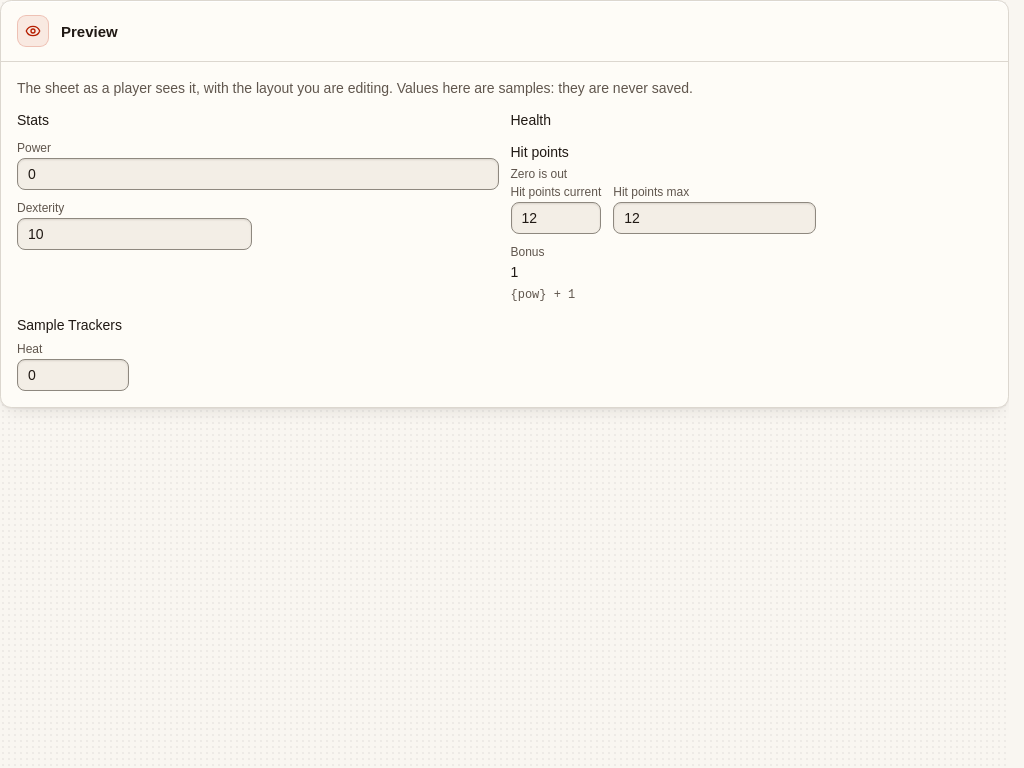
the sheet preview › computes a derived field from the sample values as they are typed
Check: the text named "Bonus" reads "1", box [510,264,518,280]
Click the number field labelled "Power" at (258, 174), box [17,158,498,190]
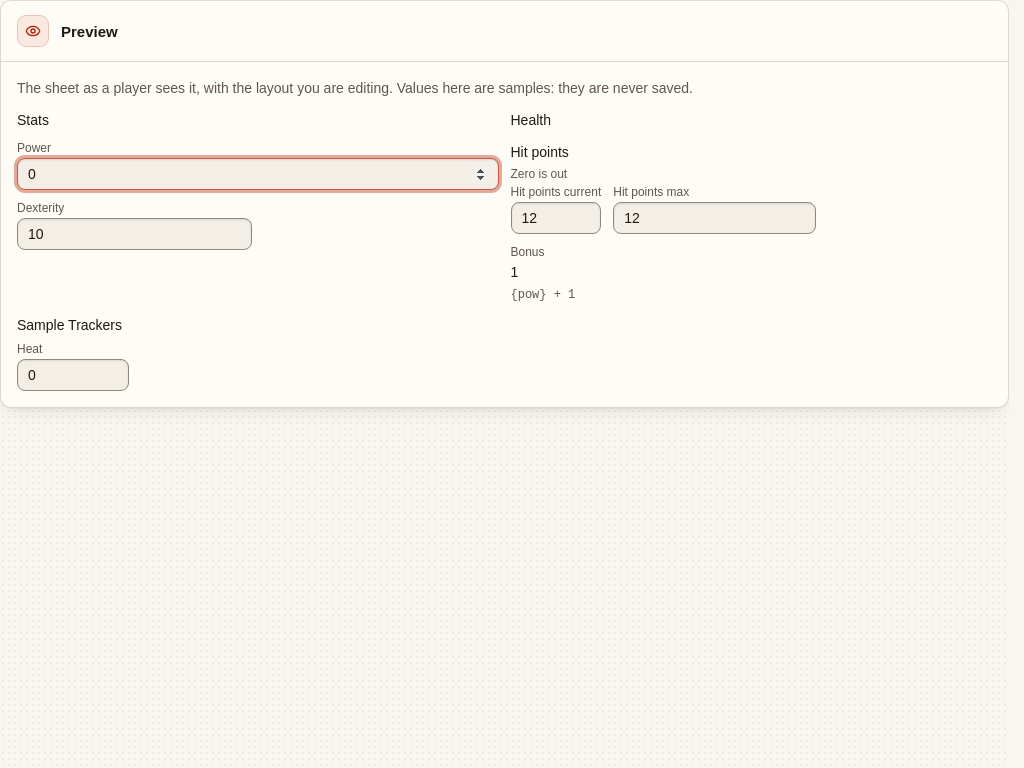
Type keys "7"
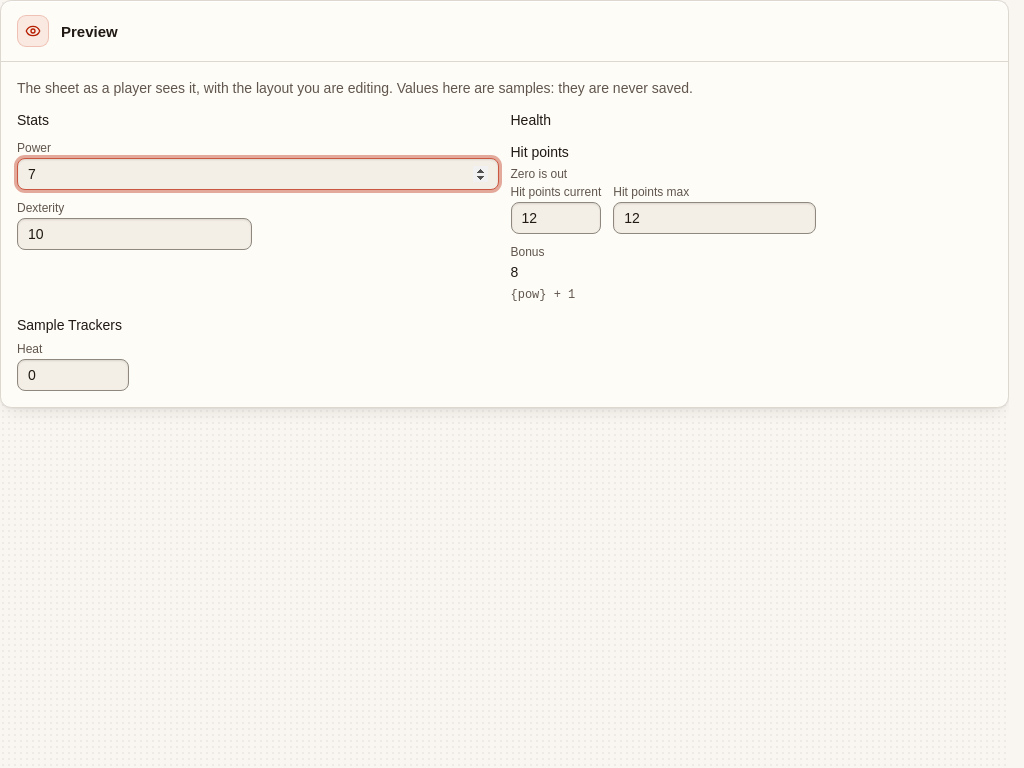
Check: the text named "Bonus" reads "8", box [510,264,518,280]
